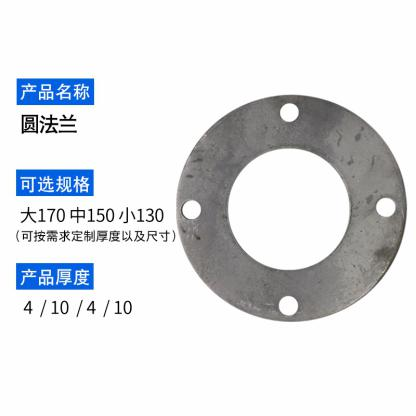FOD: (167, 89, 413, 331)
